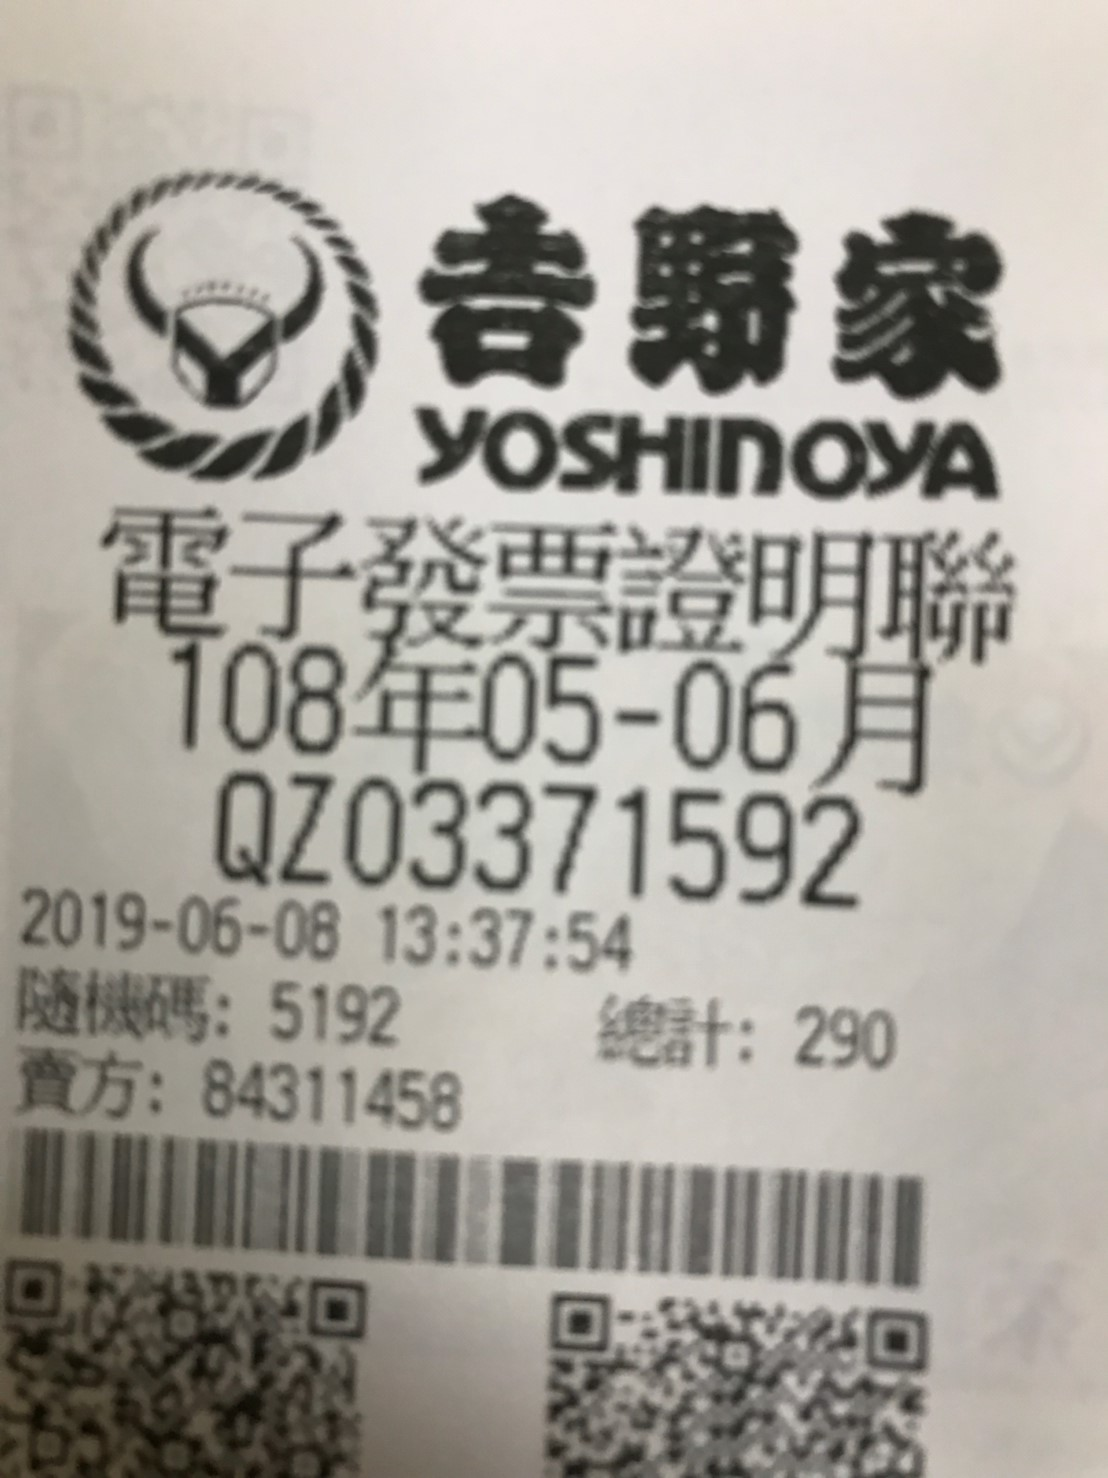Date_New: (166, 637, 933, 794)
Number_New: (341, 770, 864, 911)
